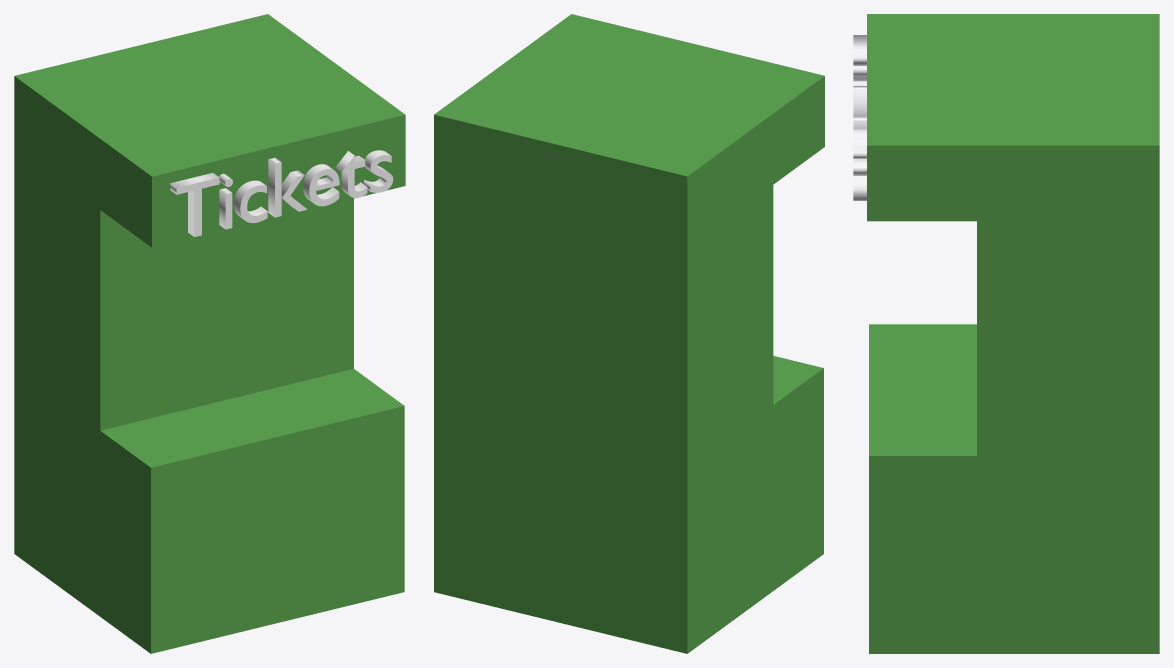
File: TicketBooth.fbx
3 views of the same model, side by side, from view 1: azimuth 30°, elevation 25°; view 2: azimuth 150°, elevation 25°; view 3: azimuth 270°, elevation 25° (orthographic). The views are drawn at different scales.
Parts seen in each view (by area): view 1: Cube, Text; view 2: Cube; view 3: Cube, Text.
Part boxes in pixels (left/top/right/bottom): Cube: left=14, top=14, right=405, bottom=653; Text: left=170, top=150, right=393, bottom=237; Cube: left=434, top=14, right=824, bottom=653; Cube: left=867, top=14, right=1159, bottom=653; Text: left=853, top=35, right=866, bottom=200.
Size of the model in its own units: 341 by 614 by 336.
